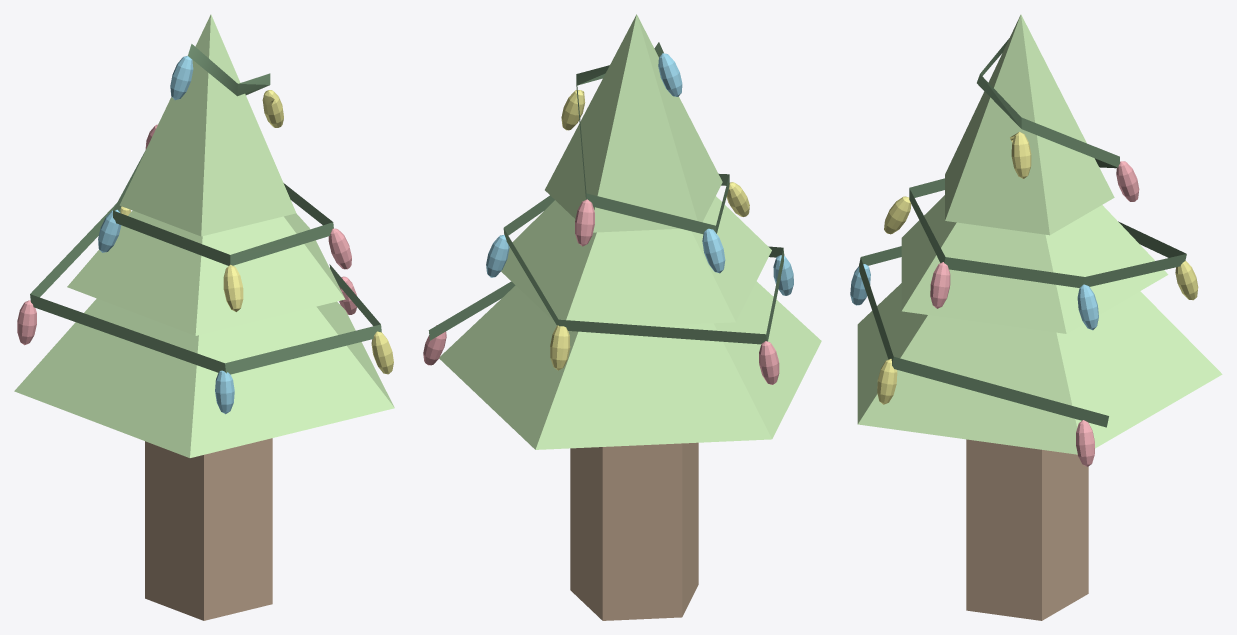
File: treeMiddleLB.fbx
3 views of the same model, side by side, from view 1: azimuth 30°, elevation 25°; view 2: azimuth 150°, elevation 25°; view 3: azimuth 270°, elevation 25° (orthographic).
Parts seen in each view (by area): view 1: treem, treeLightbulbs.002; view 2: treem, treeLightbulbs.002; view 3: treem, treeLightbulbs.002.
Boxes of the visible parts, <box> form: treem: <box>14,14,394,620</box>; treeLightbulbs.002: <box>17,44,393,414</box>; treem: <box>439,14,821,620</box>; treeLightbulbs.002: <box>423,42,793,384</box>; treem: <box>857,14,1222,620</box>; treeLightbulbs.002: <box>850,38,1198,466</box>.
Bounding box in the file's own units: 426 × 682 × 397.
